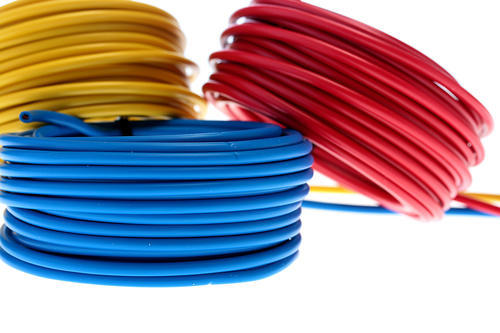Nonrec_Tangler: (1, 1, 480, 311), (227, 1, 482, 237), (1, 119, 348, 276), (1, 1, 214, 120)
